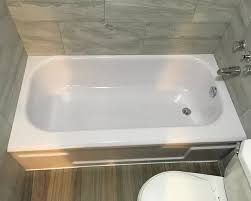bathub: (6, 51, 251, 179)
